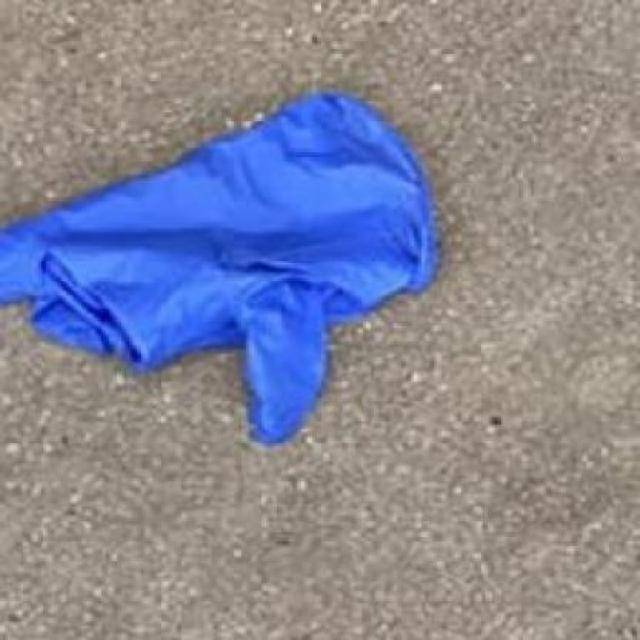glove_hand: (1, 78, 448, 447)
